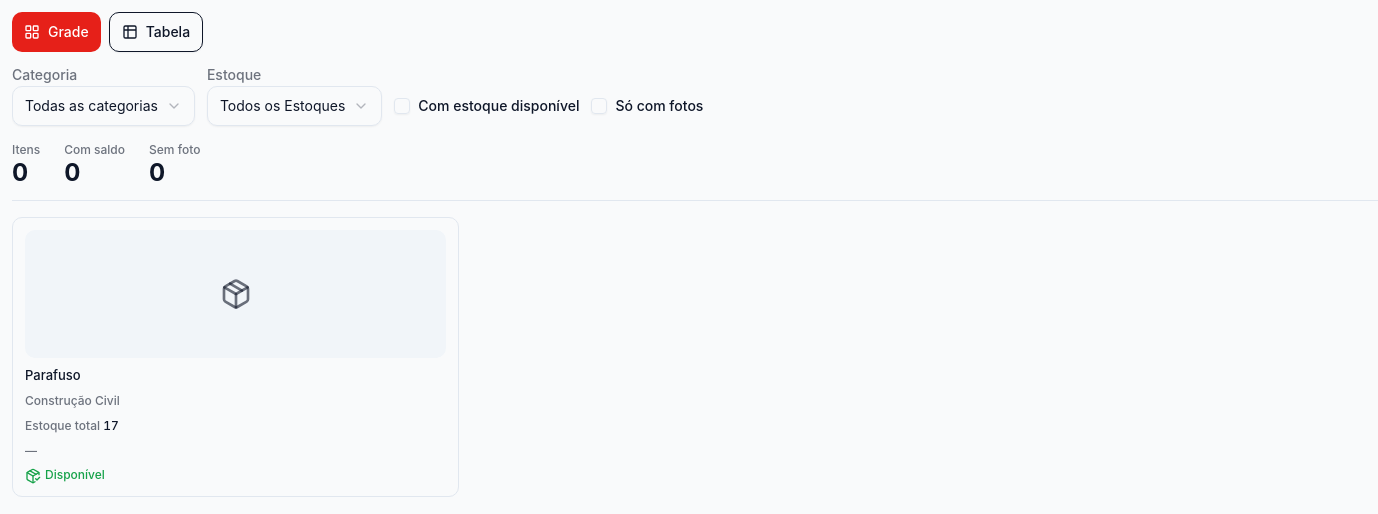
Scenario: CatalogoListagem — tabela agrupada (viewport ≥ 768px) › linha agrupada sem porEstoque mostra o aviso ao expandir
Expected: the text "Parafuso" is shown, [25,367,81,383]
Click the button "Tabela": (156,32) [109,12,203,52]
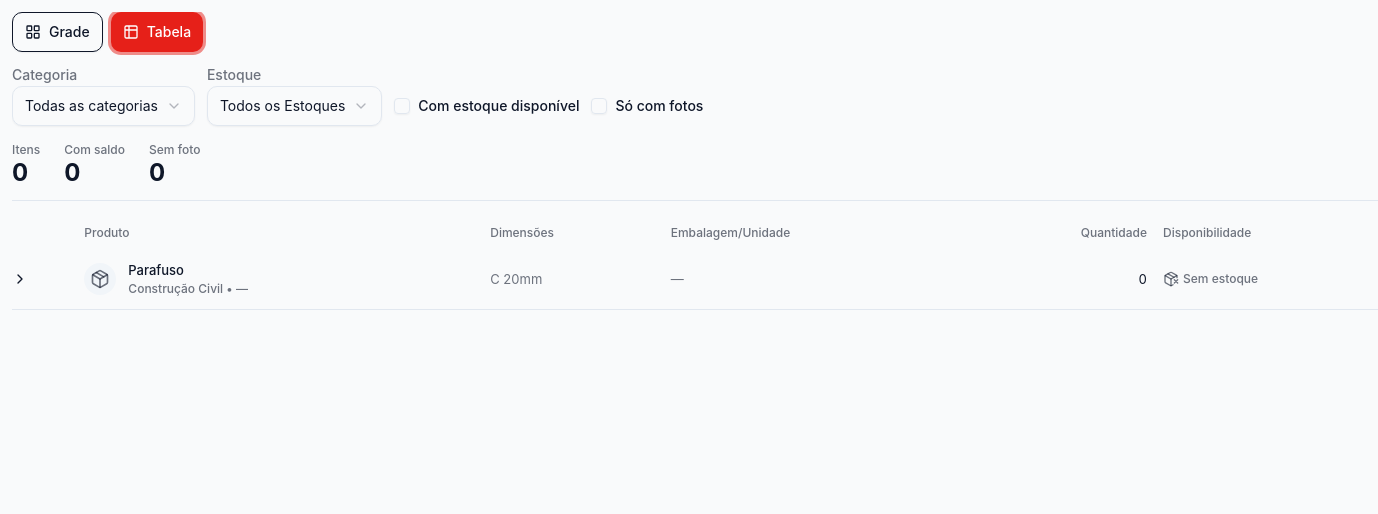
Click the button named "Parafuso": (20,279) [12,259,28,299]
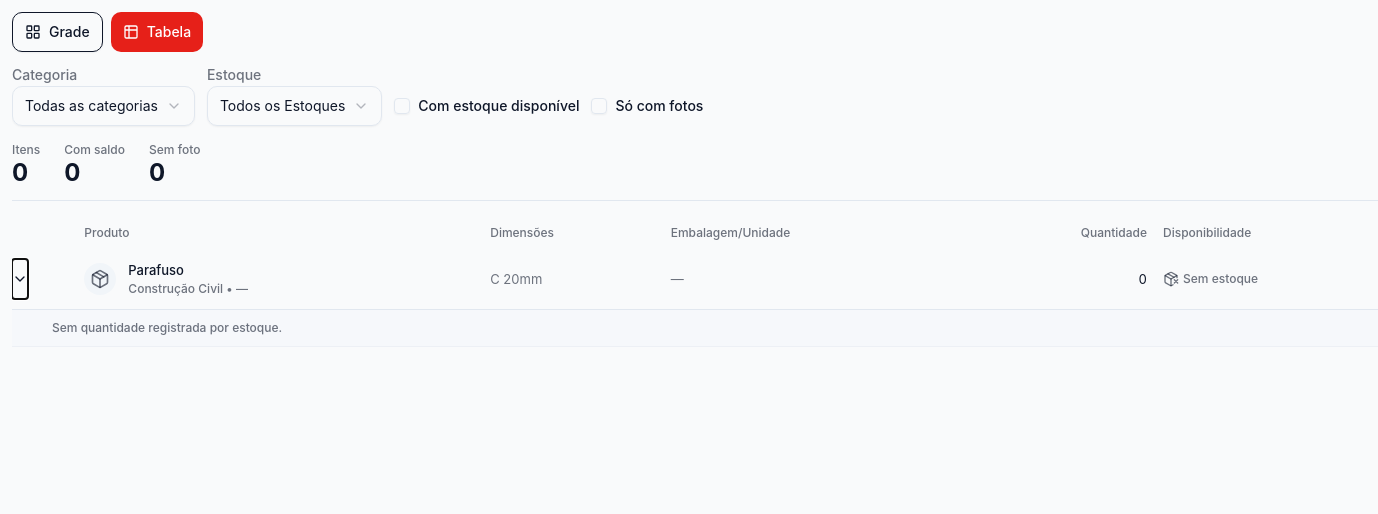
Now the text "Sem quantidade registrada por estoque." is shown, box [52,320,282,335]
